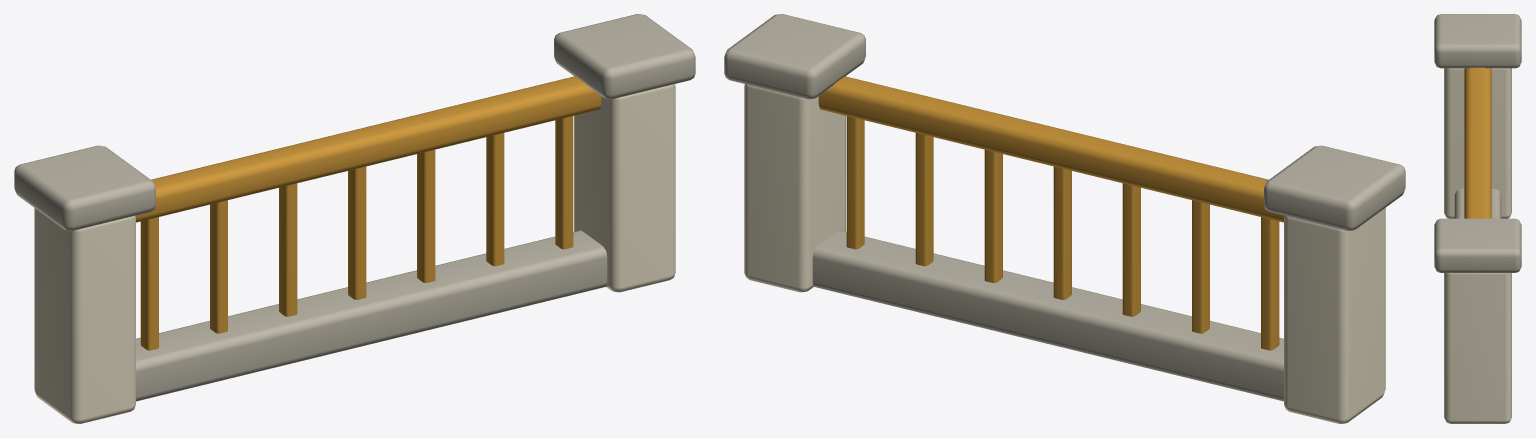
File: 61_stone_brass_balustrade.glb
The picture shows the model from 3 angles, left to right: view 1: azimuth 30°, elevation 25°; view 2: azimuth 150°, elevation 25°; view 3: azimuth 270°, elevation 25°; orthographic projection. The views are drawn at different scales.
Parts seen in each view (by area): view 1: Rail foot, Rail stone post, Rail stone post.001, Brass top rail, Rail cap, Rail cap.001, Brass baluster.002, Brass baluster.003, Brass baluster.005, Brass baluster.006, Brass baluster.004, Brass baluster (+1 smaller); view 2: Rail foot, Rail stone post, Rail stone post.001, Brass top rail, Rail cap, Rail cap.001, Brass baluster.002, Brass baluster.003, Brass baluster.005, Brass baluster.006, Brass baluster.004, Brass baluster (+1 smaller); view 3: Rail stone post.001, Rail stone post, Rail cap.001, Rail cap, Brass top rail, Rail foot.
Boxes of the visible parts, bbox=[...] form: Rail foot: bbox=[136, 230, 607, 401]; Rail stone post: bbox=[34, 208, 135, 423]; Rail stone post.001: bbox=[574, 84, 675, 292]; Brass top rail: bbox=[135, 76, 601, 222]; Rail cap: bbox=[14, 145, 155, 230]; Rail cap.001: bbox=[554, 14, 695, 99]; Brass baluster.002: bbox=[279, 183, 297, 316]; Brass baluster.003: bbox=[348, 166, 366, 299]; Brass baluster.005: bbox=[486, 133, 504, 266]; Brass baluster.006: bbox=[555, 116, 573, 249]; Brass baluster.004: bbox=[417, 149, 435, 282]; Brass baluster: bbox=[140, 217, 158, 350]; Rail foot: bbox=[812, 230, 1283, 401]; Rail stone post: bbox=[1284, 208, 1385, 423]; Rail stone post.001: bbox=[744, 84, 845, 292]; Brass top rail: bbox=[818, 76, 1284, 222]; Rail cap: bbox=[1264, 145, 1405, 230]; Rail cap.001: bbox=[724, 14, 865, 99]; Brass baluster.002: bbox=[1122, 183, 1140, 316]; Brass baluster.003: bbox=[1053, 166, 1071, 299]; Brass baluster.005: bbox=[915, 133, 933, 266]; Brass baluster.006: bbox=[846, 116, 864, 249]; Brass baluster.004: bbox=[984, 149, 1002, 282]; Brass baluster: bbox=[1261, 217, 1279, 350]; Rail stone post.001: bbox=[1444, 273, 1511, 423]; Rail stone post: bbox=[1444, 68, 1511, 218]; Rail cap.001: bbox=[1434, 218, 1521, 272]; Rail cap: bbox=[1434, 14, 1521, 68]; Brass top rail: bbox=[1464, 67, 1491, 218]; Rail foot: bbox=[1454, 188, 1501, 218].
Bounding box in the file's own units: 2.93 × 1.03 × 0.45.
